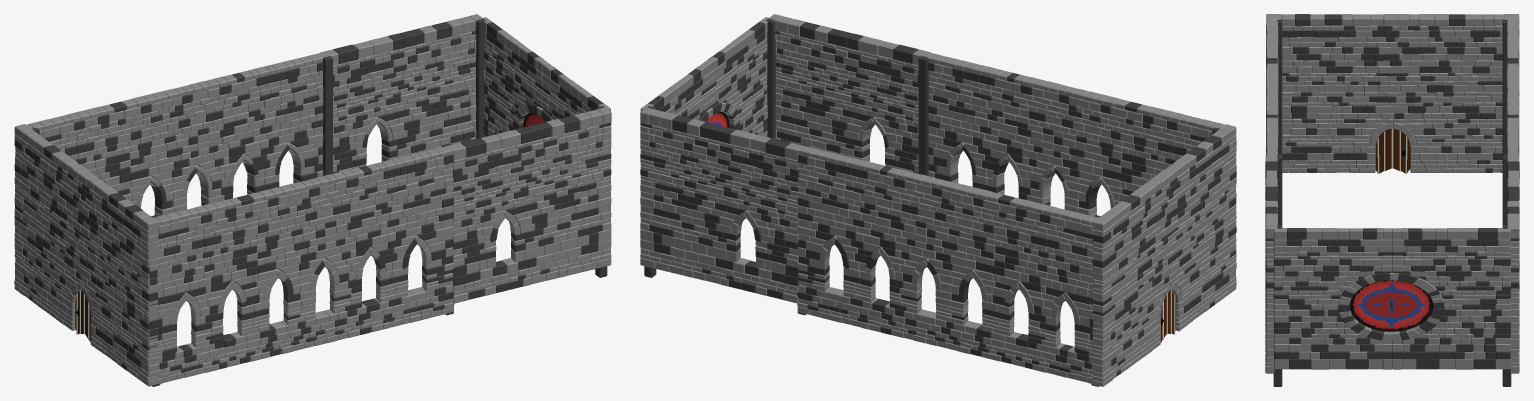
File: church walls.fbx
The picture shows the model from 3 angles, left to right: view 1: azimuth 30°, elevation 25°; view 2: azimuth 150°, elevation 25°; view 3: azimuth 270°, elevation 25°; orthographic projection. The views are drawn at different scales.
Parts seen in each view (by area): view 1: church wall; view 2: church wall; view 3: church wall.
Part boxes in pixels (left/top/right/bottom): church wall: left=14, top=14, right=611, bottom=386; church wall: left=640, top=14, right=1236, bottom=386; church wall: left=1265, top=14, right=1519, bottom=386.
Size of the model in its own units: 6199 by 2128 by 3079.
